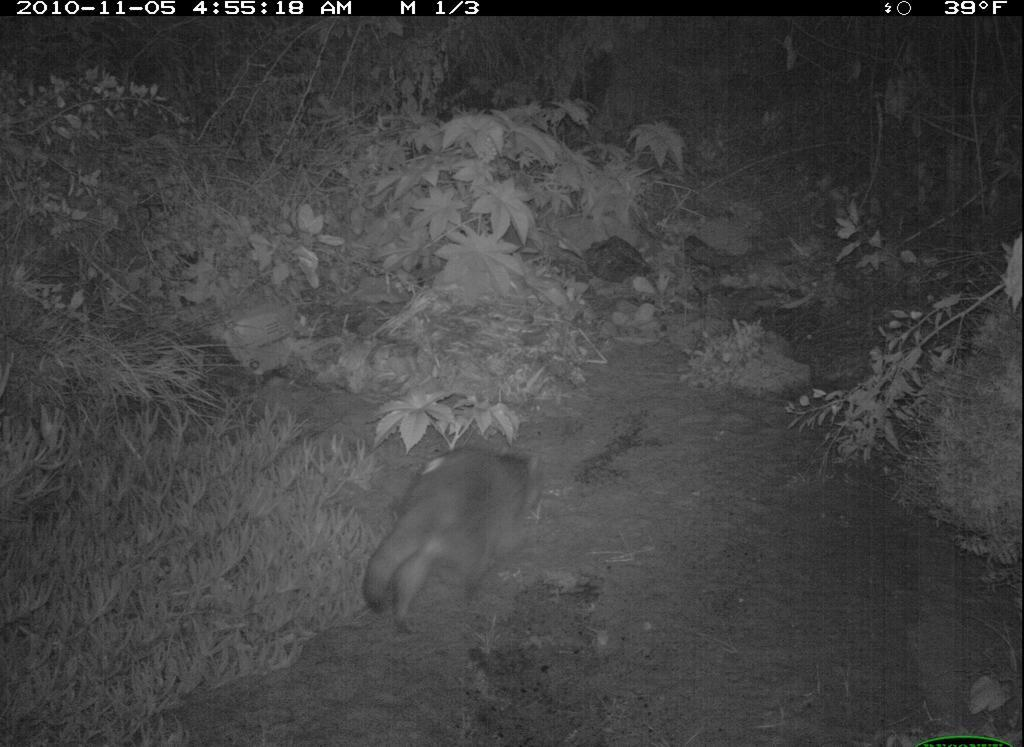raccoon: (323, 440, 546, 644)
